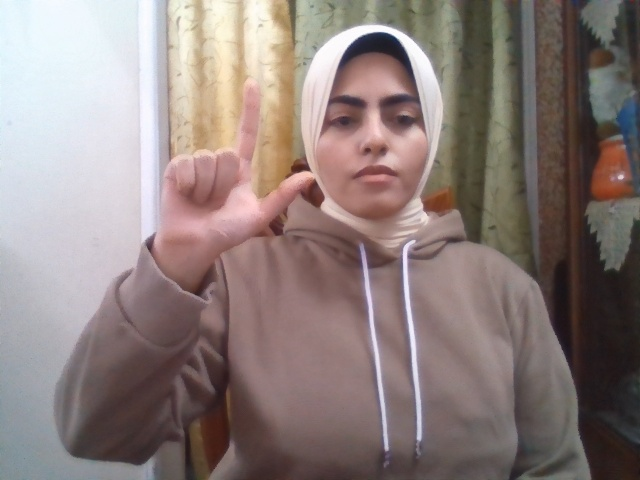L: (157, 78, 314, 255)
